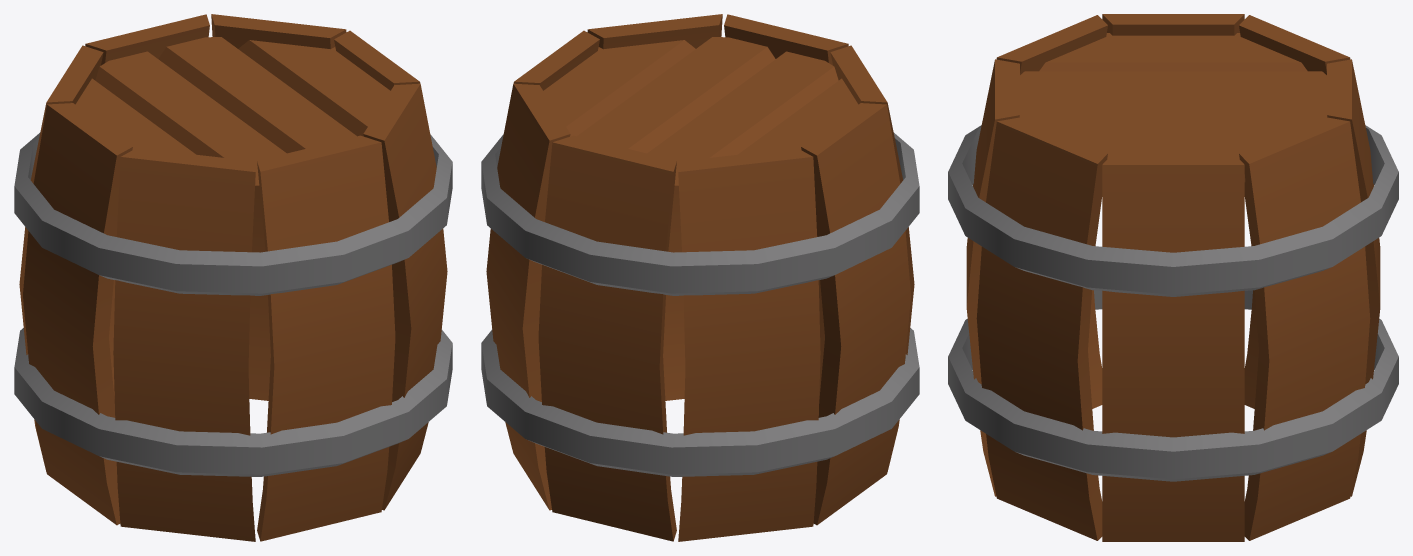
Rendered from Projectile_3_Pea.obj.
3 renders of one model, left to right at view 1: azimuth 30°, elevation 25°; view 2: azimuth 150°, elevation 25°; view 3: azimuth 270°, elevation 25°, orthographic.
Parts seen in each view (by area): view 1: Projectile_3_Pea; view 2: Projectile_3_Pea; view 3: Projectile_3_Pea.
Boxes of the visible parts, x1,y1,x2,y2 form: Projectile_3_Pea: (14,14,452,541); Projectile_3_Pea: (481,14,919,541); Projectile_3_Pea: (948,14,1398,541).
Bounding box in the file's own units: 0.7147 × 0.6599 × 0.7147.
